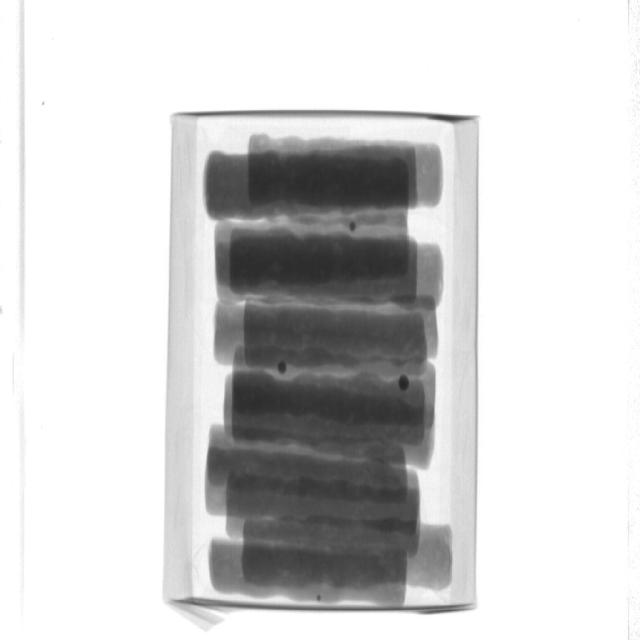ym: (278, 360, 289, 374), (399, 377, 409, 392), (350, 222, 357, 232), (317, 596, 323, 603)
